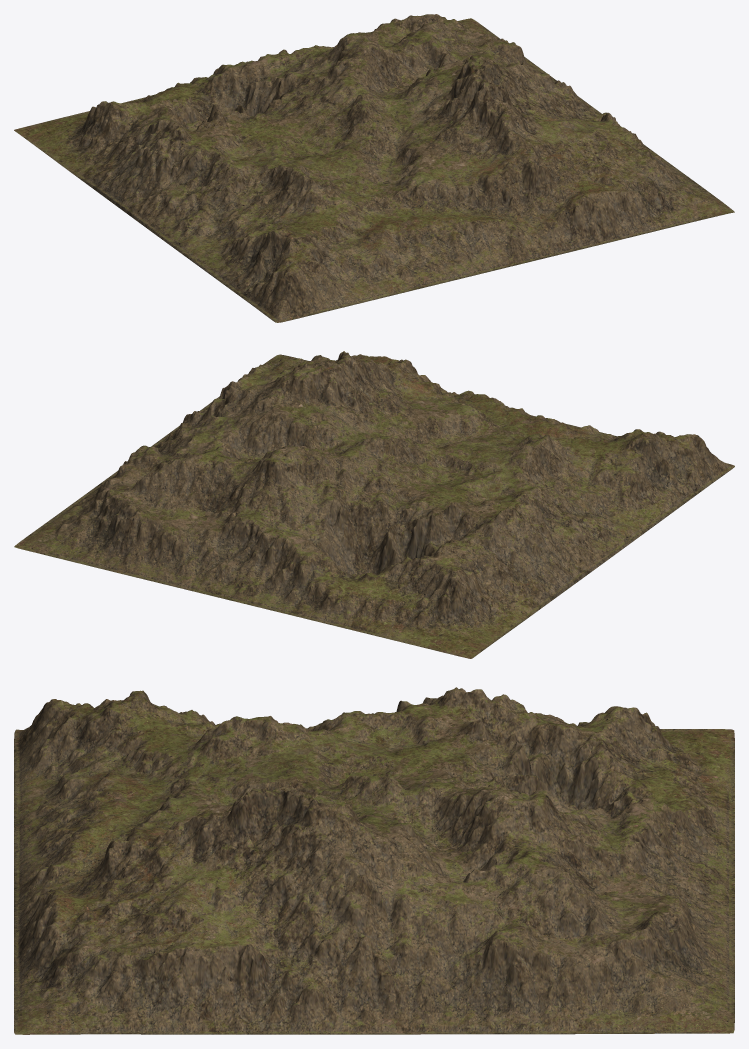
Rendered from rocks_formation_01.glb.
3 renders of one model, top to bottom at view 1: azimuth 30°, elevation 25°; view 2: azimuth 150°, elevation 25°; view 3: azimuth 270°, elevation 25°, orthographic. The views are drawn at different scales.
Visible parts, largest first — view 1: Mesh_bake_0 (×2); view 2: Mesh_bake_0 (×2); view 3: Mesh_bake_0 (×2).
Part boxes in pixels (left/top/right/bottom): Mesh_bake_0 (×2): left=14, top=14, right=734, bottom=322; Mesh_bake_0 (×2): left=14, top=351, right=734, bottom=658; Mesh_bake_0 (×2): left=14, top=687, right=734, bottom=1034.
Bounding box in the file's own units: 11.49 × 2.74 × 11.49.
Materials: 1 (1 with a texture image).
